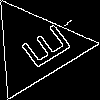E: (10, 23, 73, 76)
